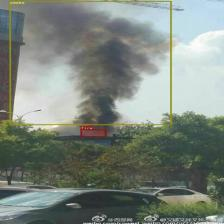fire: (80, 129, 106, 137)
smoke: (9, 1, 171, 125)
